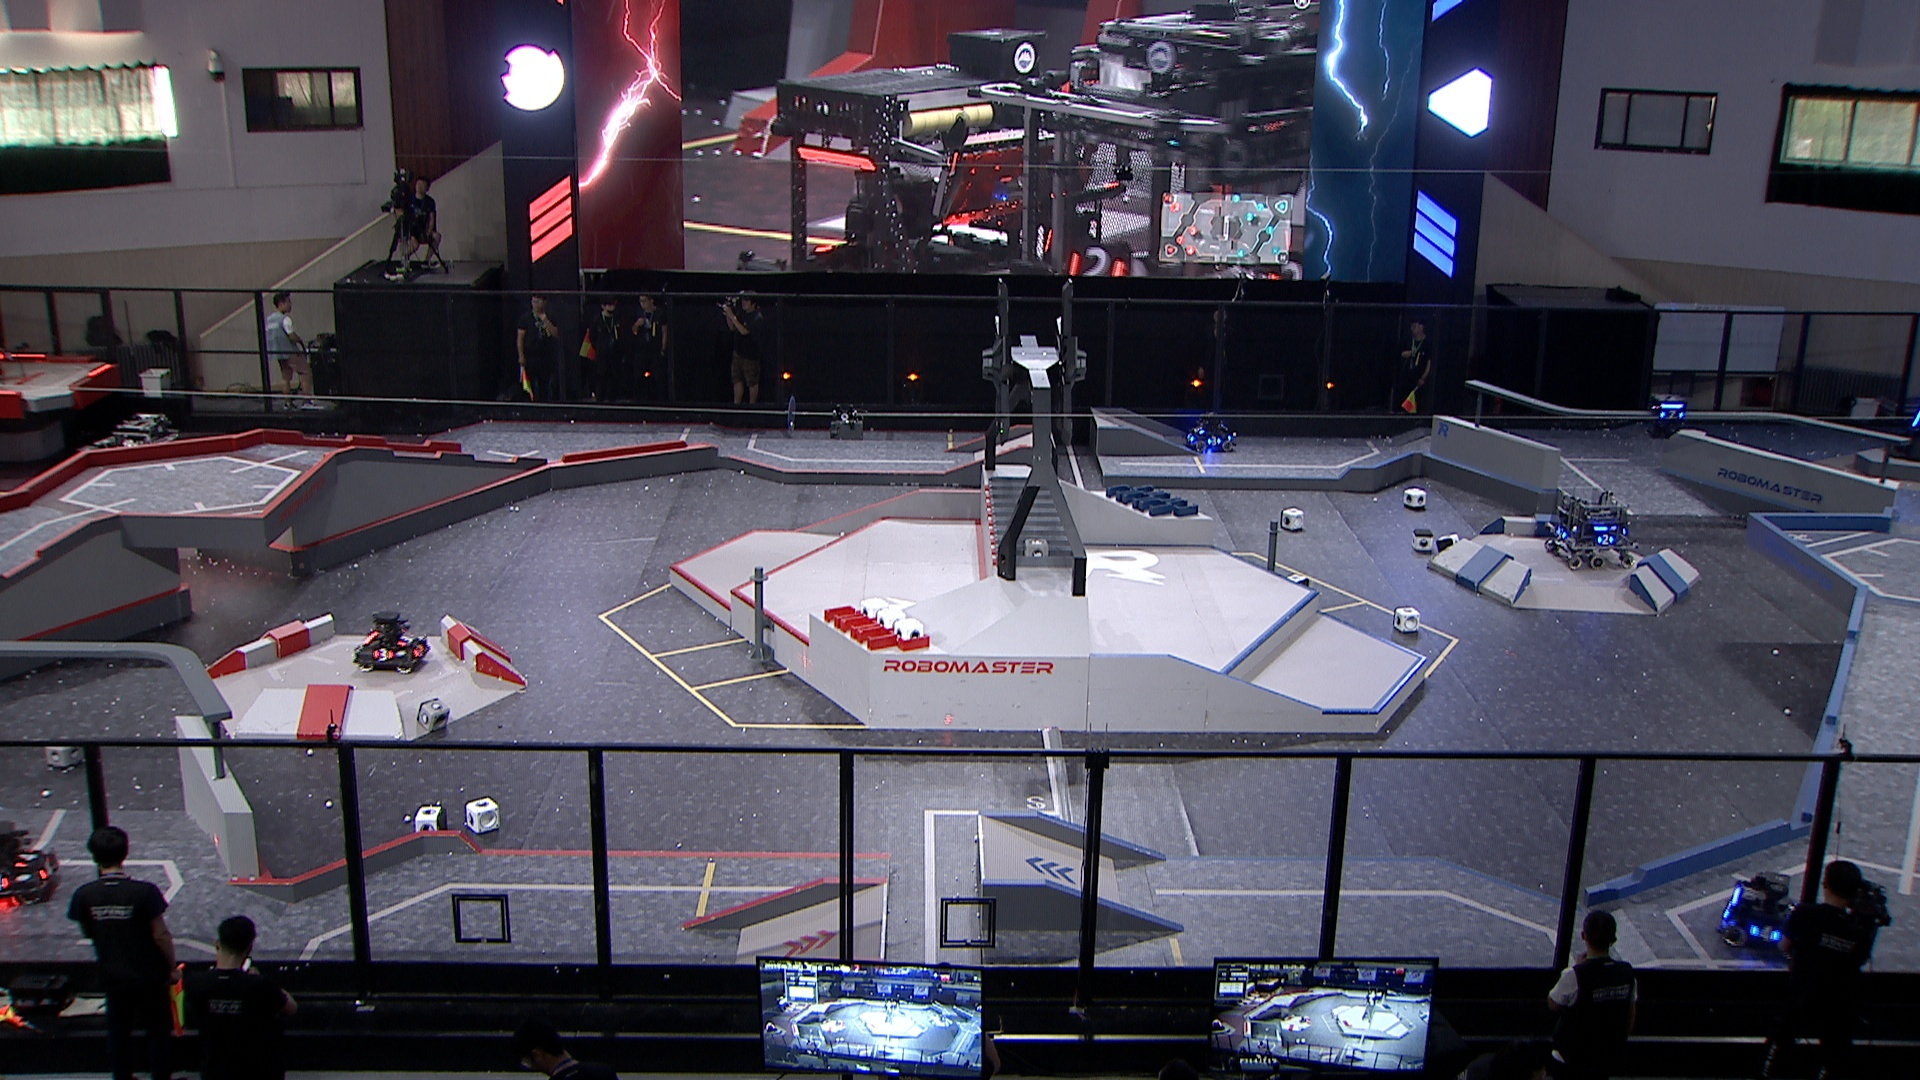armor: (1745, 924, 1783, 942), (12, 845, 41, 868), (38, 856, 58, 882), (372, 647, 394, 665), (1658, 409, 1687, 422), (1596, 534, 1615, 547), (396, 633, 413, 647), (1553, 527, 1569, 541), (1205, 434, 1222, 444), (1192, 425, 1207, 436), (413, 644, 425, 657), (1185, 433, 1196, 443)
car: (1712, 866, 1817, 956), (87, 411, 183, 500), (1539, 485, 1636, 571), (352, 607, 433, 673), (1182, 410, 1236, 455)
ignore: (956, 1, 1317, 280), (771, 26, 1048, 276)
watcher: (1646, 392, 1692, 438)
